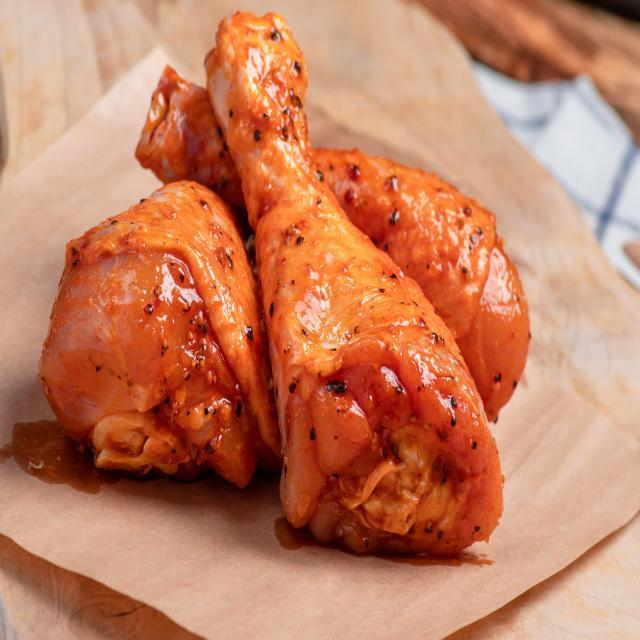leg: (136, 48, 529, 404), (218, 18, 486, 536), (45, 184, 281, 466)
